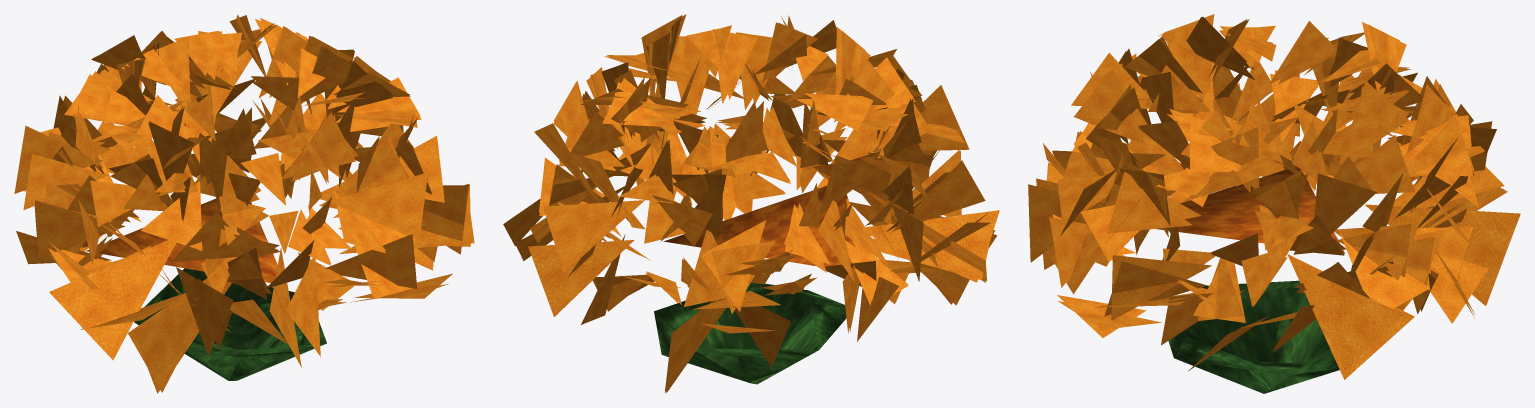
File: flor_baja_medio.obj
3 renders of one model, left to right at view 1: azimuth 30°, elevation 25°; view 2: azimuth 150°, elevation 25°; view 3: azimuth 270°, elevation 25°, orthographic. The views are drawn at different scales.
Parts seen in each view (by area): view 1: Flor_Cempasuchil; view 2: Flor_Cempasuchil; view 3: Flor_Cempasuchil.
Part boxes in pixels (<box>): Flor_Cempasuchil: <box>14,14,474,393</box>; Flor_Cempasuchil: <box>503,14,999,393</box>; Flor_Cempasuchil: <box>1028,14,1520,393</box>.
Size of the model in its own units: 0.2349 by 0.1816 by 0.2373.
3 materials, 3 textured.
